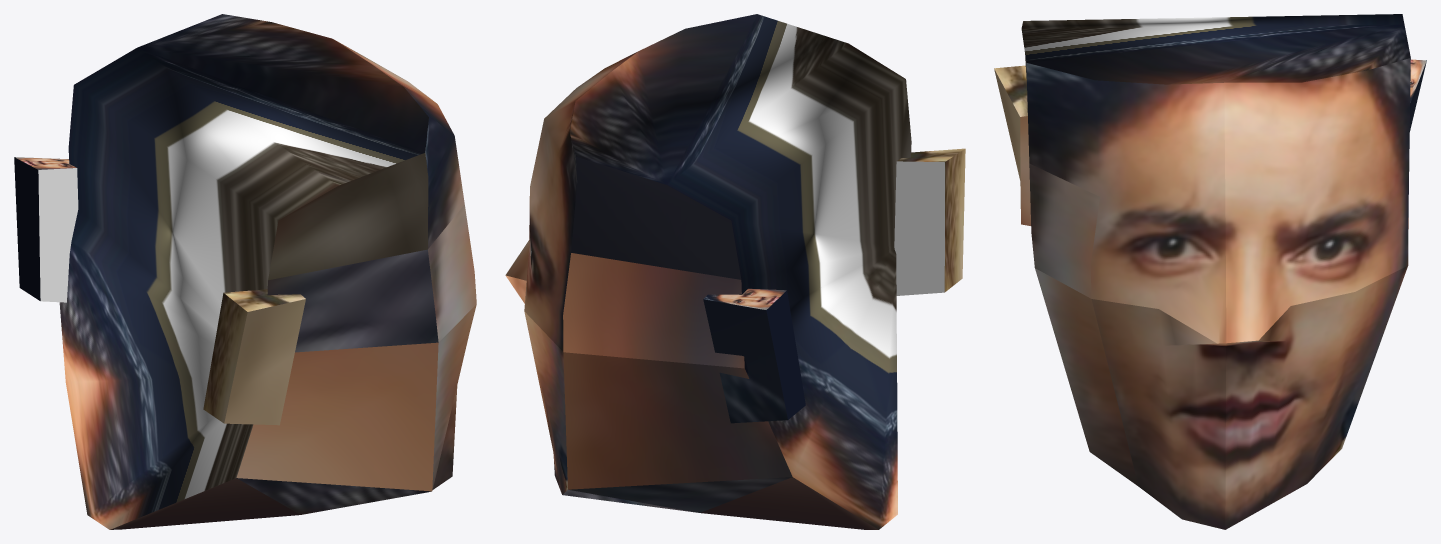
Rendered from puneet.fbx.
3 views of the same model, side by side, from view 1: azimuth 30°, elevation 25°; view 2: azimuth 150°, elevation 25°; view 3: azimuth 270°, elevation 25° (orthographic).
Visible parts, largest first — view 1: Cylinder; view 2: Cylinder; view 3: Cylinder.
Boxes of the visible parts, x1,y1,x2,y2 form: Cylinder: (14,14,476,529); Cylinder: (505,14,965,529); Cylinder: (994,14,1426,529).
Size of the model in its own units: 67.17 by 72.49 by 67.79.
Materials: 1 (1 with a texture image).
